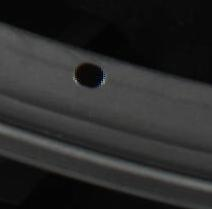holes: (73, 61, 106, 89)
